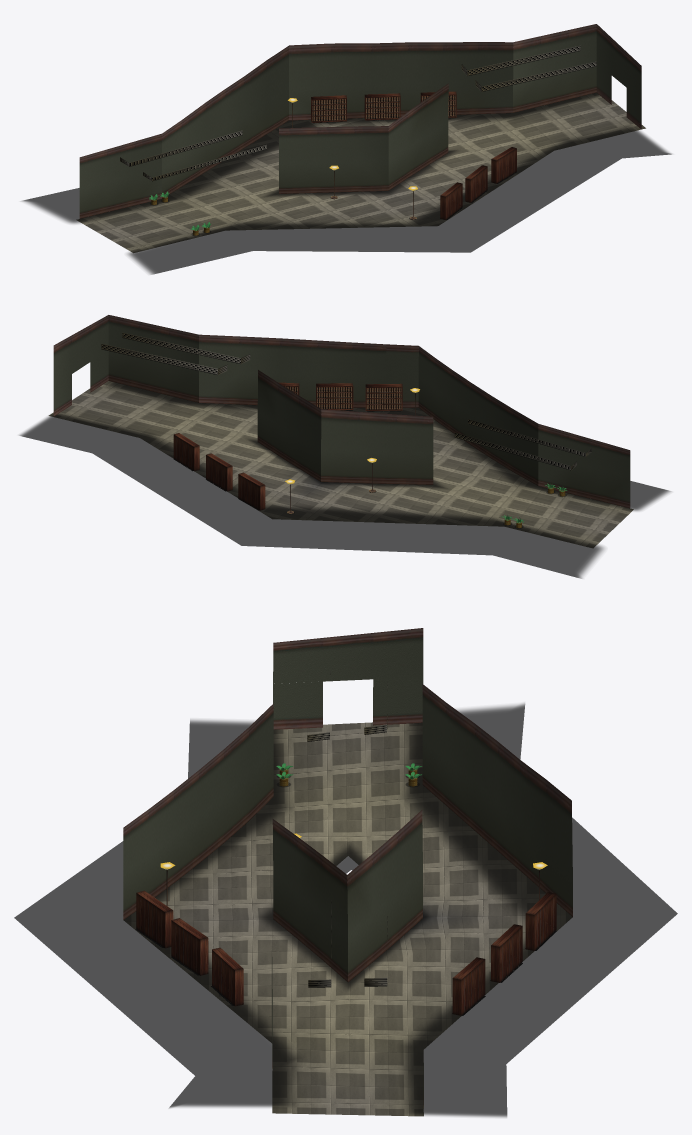
File: room_104.glb
The picture shows the model from 3 angles, top to bottom: view 1: azimuth 30°, elevation 25°; view 2: azimuth 150°, elevation 25°; view 3: azimuth 270°, elevation 25°; orthographic projection. The views are drawn at different scales.
Visible parts, largest first — view 1: floor, groundShadow_1, W14, W10, W2, W16, W13, W1, W15, pCube1 (×3), polySurface1 (×2), groundShadow_2 (+4 smaller); view 2: floor, groundShadow_1, W9, W3, W8, W6, W12, W4, W15, pCube1 (×3), polySurface1 (×2), LongLights_Lights1 (+4 smaller); view 3: floor, groundShadow_1, W10, W8, pCube1 (×6), W4, W1, W11, wall, wall31, groundShadow_2.
Boxes of the visible parts, x1=… form: floor: x1=77, y1=93, x2=645, y2=252; groundShadow_1: x1=22, y1=92, x2=671, y2=274; W14: x1=289, y1=42, x2=513, y2=120; W10: x1=162, y1=45, x2=289, y2=198; W2: x1=279, y1=126, x2=388, y2=193; W16: x1=513, y1=24, x2=596, y2=112; W13: x1=79, y1=133, x2=162, y2=218; W1: x1=388, y1=83, x2=448, y2=190; W15: x1=596, y1=24, x2=641, y2=129; pCube1 (×3): x1=440, y1=147, x2=516, y2=219; polySurface1 (×2): x1=312, y1=96, x2=399, y2=121; groundShadow_2: x1=265, y1=150, x2=458, y2=196; floor: x1=48, y1=381, x2=633, y2=547; groundShadow_1: x1=19, y1=382, x2=671, y2=578; W9: x1=199, y1=334, x2=418, y2=407; W3: x1=321, y1=409, x2=433, y2=484; W8: x1=418, y1=346, x2=538, y2=485; W6: x1=108, y1=315, x2=198, y2=402; W12: x1=538, y1=424, x2=630, y2=508; W4: x1=257, y1=370, x2=321, y2=481; W15: x1=53, y1=315, x2=108, y2=416; pCube1 (×3): x1=173, y1=433, x2=265, y2=510; polySurface1 (×2): x1=317, y1=386, x2=401, y2=409; LongLights_Lights1: x1=101, y1=343, x2=227, y2=374; floor: x1=124, y1=722, x2=572, y2=1116; groundShadow_1: x1=14, y1=703, x2=677, y2=1117; W10: x1=422, y1=684, x2=572, y2=916; W8: x1=123, y1=704, x2=273, y2=919; pCube1 (×6): x1=136, y1=890, x2=556, y2=1015; W4: x1=347, y1=810, x2=422, y2=982; W1: x1=272, y1=819, x2=347, y2=981; W11: x1=273, y1=628, x2=423, y2=683; wall: x1=373, y1=677, x2=423, y2=725; wall31: x1=273, y1=681, x2=322, y2=729; groundShadow_2: x1=258, y1=844, x2=430, y2=990.
Size of the model in its own units: 305 by 38.22 by 197.
14 materials, 14 textured.
